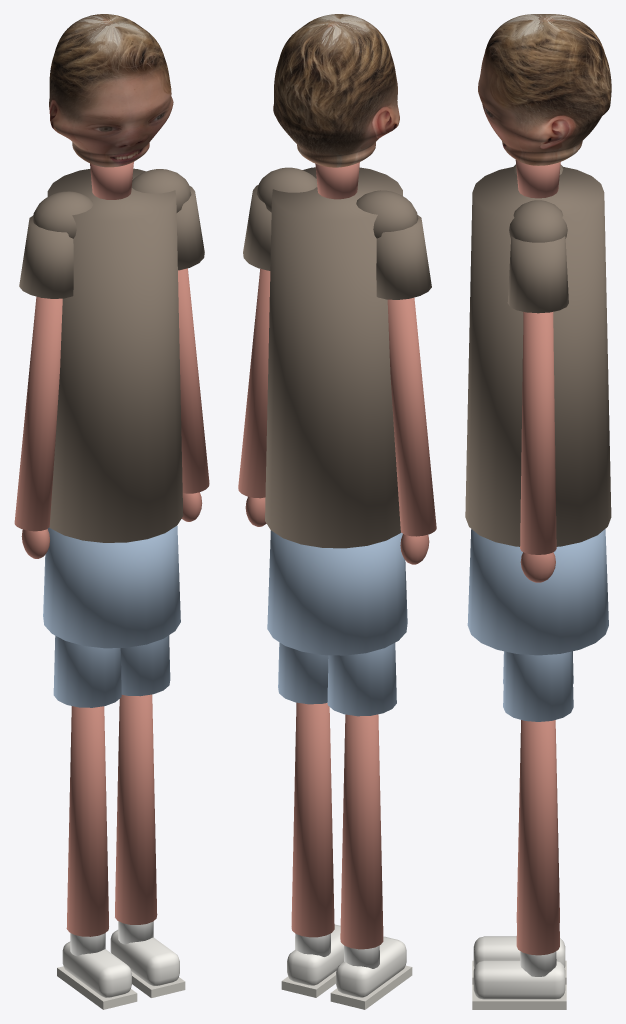
Rendered from victor.glb.
The picture shows the model from 3 angles, left to right: view 1: azimuth 30°, elevation 25°; view 2: azimuth 150°, elevation 25°; view 3: azimuth 270°, elevation 25°; orthographic projection.
Visible parts, largest first — view 1: victor_torso, victor_head, victor_shorts, victor_shin, victor_shin.001, victor_arm, victor_arm.001, victor_shortleg, victor_sleeve, victor_shortleg.001, victor_shoe, victor_shoe.001 (+10 smaller); view 2: victor_torso, victor_head, victor_shorts, victor_shin, victor_shin.001, victor_arm, victor_arm.001, victor_shortleg, victor_sleeve, victor_shortleg.001, victor_shoe, victor_shoulder (+10 smaller); view 3: victor_torso, victor_head, victor_shorts, victor_shin.001, victor_arm.001, victor_shortleg.001, victor_sleeve.001, victor_shoe.001, victor_shoulder.001, victor_neck, victor_shoe, victor_sole.001 (+3 smaller).
Boxes of the visible parts, bbox=[...] form: victor_torso: bbox=[47, 168, 183, 542]; victor_head: bbox=[49, 14, 173, 167]; victor_shorts: bbox=[43, 525, 180, 648]; victor_shin: bbox=[66, 706, 108, 936]; victor_shin.001: bbox=[115, 694, 157, 924]; victor_arm: bbox=[14, 296, 62, 531]; victor_arm.001: bbox=[178, 268, 209, 493]; victor_shortleg: bbox=[53, 636, 121, 707]; victor_sleeve: bbox=[19, 215, 73, 298]; victor_shortleg.001: bbox=[120, 635, 170, 696]; victor_shoe: bbox=[62, 941, 131, 997]; victor_shoe.001: bbox=[110, 930, 179, 985]; victor_torso: bbox=[265, 167, 402, 548]; victor_head: bbox=[273, 14, 399, 167]; victor_shorts: bbox=[267, 530, 407, 655]; victor_shin: bbox=[340, 714, 383, 949]; victor_shin.001: bbox=[291, 702, 334, 937]; victor_arm: bbox=[387, 297, 436, 536]; victor_arm.001: bbox=[238, 269, 270, 498]; victor_shortleg: bbox=[327, 643, 396, 716]; victor_sleeve: bbox=[376, 215, 431, 299]; victor_shortleg.001: bbox=[278, 642, 328, 704]; victor_shoe: bbox=[336, 936, 406, 997]; victor_shoulder: bbox=[356, 190, 418, 238]; victor_torso: bbox=[465, 166, 611, 546]; victor_head: bbox=[478, 14, 611, 165]; victor_shorts: bbox=[467, 529, 608, 655]; victor_shin.001: bbox=[516, 720, 559, 955]; victor_arm.001: bbox=[520, 312, 556, 554]; victor_shortleg.001: bbox=[503, 651, 573, 721]; victor_sleeve.001: bbox=[507, 236, 568, 313]; victor_shoe.001: bbox=[473, 960, 565, 999]; victor_shoulder.001: bbox=[509, 200, 567, 242]; victor_neck: bbox=[515, 160, 560, 198]; victor_shoe: bbox=[473, 936, 565, 967]; victor_sole.001: bbox=[472, 984, 566, 1009].
Bounding box in the file's own units: 0.2927 × 1.4 × 0.1909.
7 materials, 1 textured.
